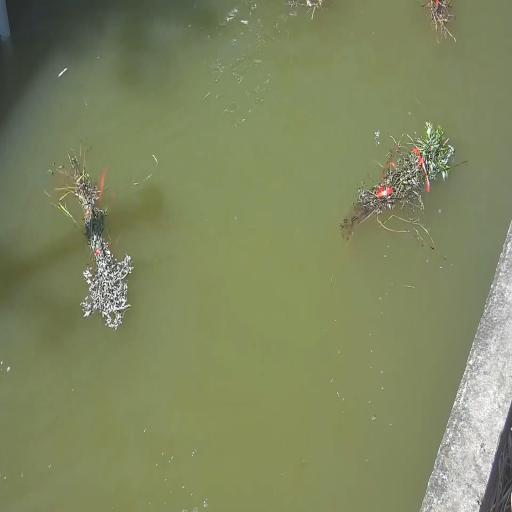twig: (47, 142, 135, 328), (340, 117, 459, 250), (419, 1, 458, 45), (284, 1, 322, 21)
